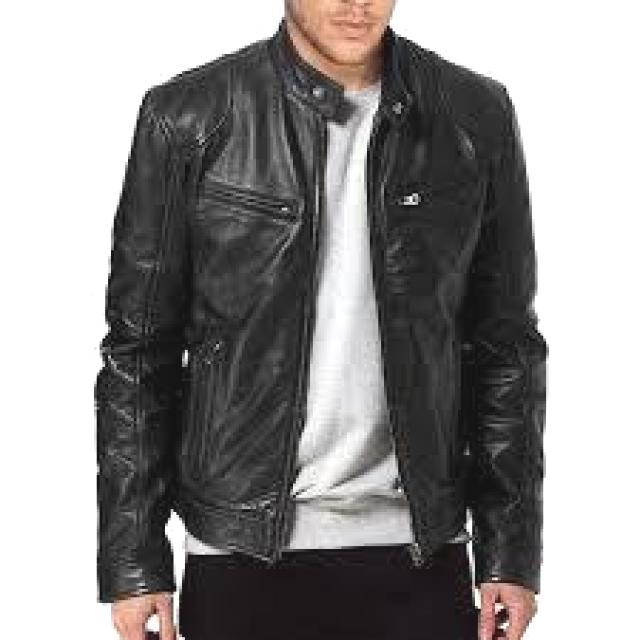jacket: (95, 17, 608, 614)
